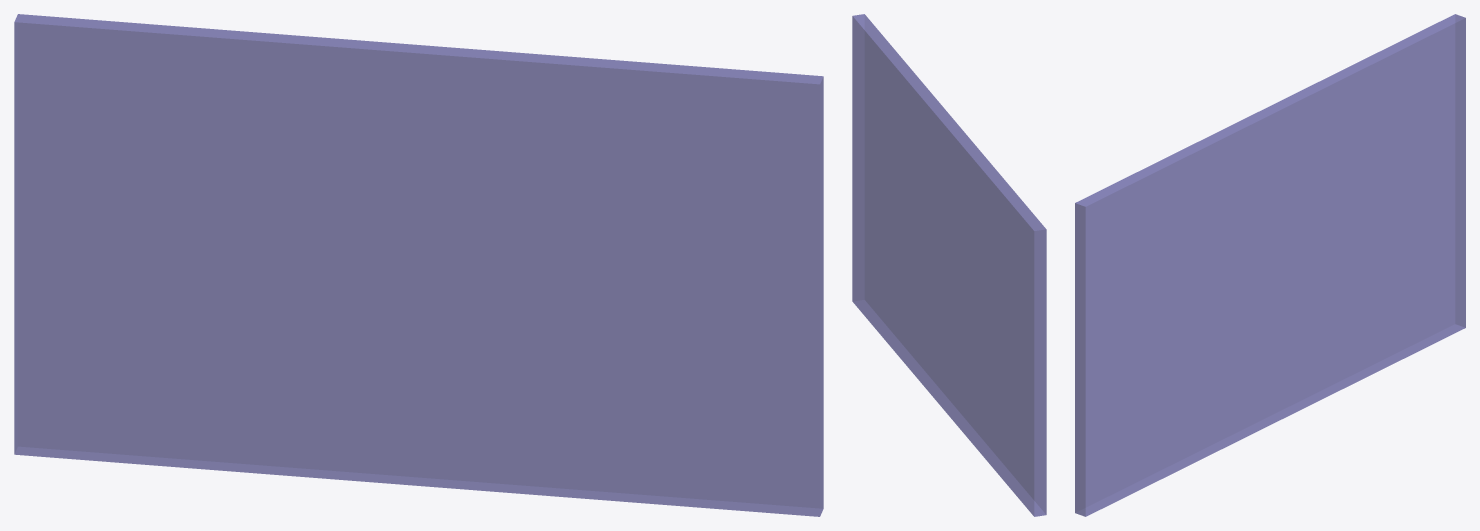
The model's file is Target1.fbx.
3 views of the same model, side by side, from view 1: azimuth 30°, elevation 25°; view 2: azimuth 150°, elevation 25°; view 3: azimuth 270°, elevation 25° (orthographic). The views are drawn at different scales.
Visible parts, largest first — view 1: Target1; view 2: Target1; view 3: Target1.
Boxes of the visible parts, <box> form: Target1: <box>14,14,823,516</box>; Target1: <box>852,14,1046,516</box>; Target1: <box>1075,14,1465,516</box>.
Bounding box in the file's own units: 3.24 × 2.43 × 2.78.
